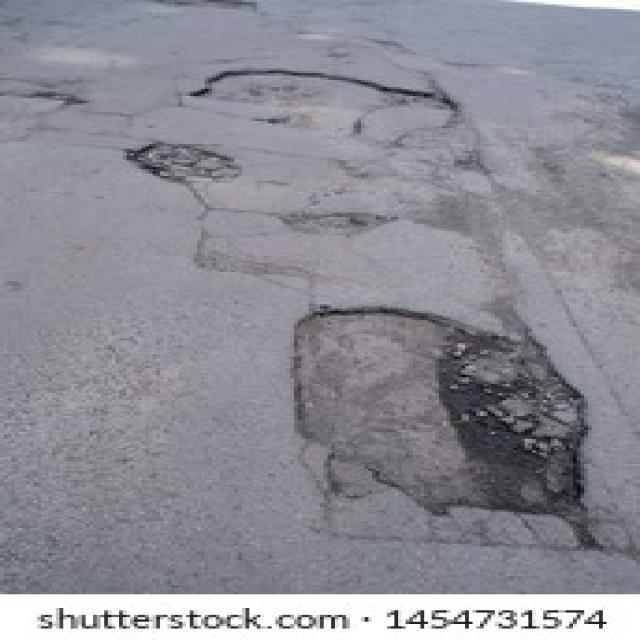Pothole: (290, 306, 599, 521), (186, 68, 450, 140), (126, 137, 242, 183), (0, 86, 86, 146), (279, 210, 402, 233)
